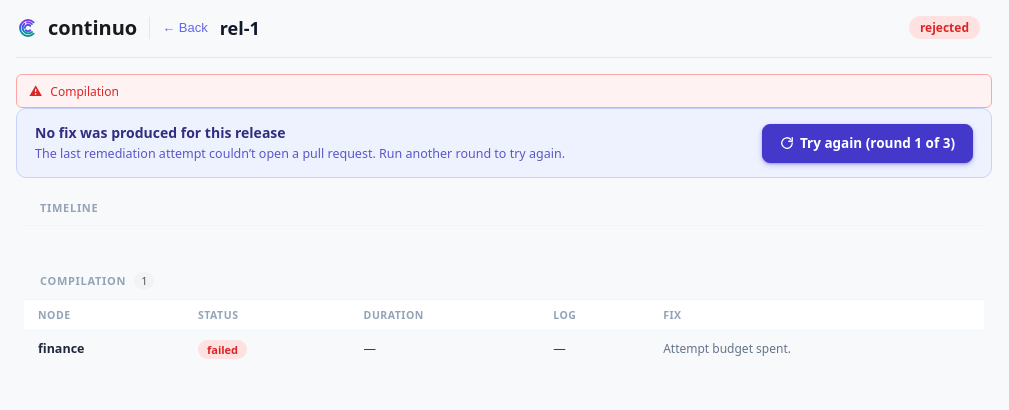
Test: ReleaseDetailPage — retry a dead-end rejected release › says a fix is already proposed when 409 proposal_open carries no pr_url
This screenshot has width=1009, height=410.
Click the button "Try again (round 1 of 3)" at (867, 143), box [762,124,973,162]
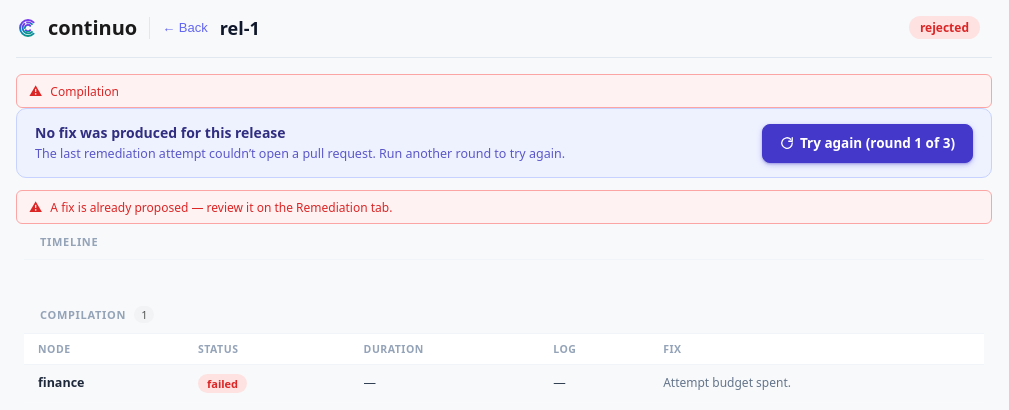
Expected: the text "⚠ A fix is already proposed — review it on the Remediation tab." is shown, [16,190,992,224]
